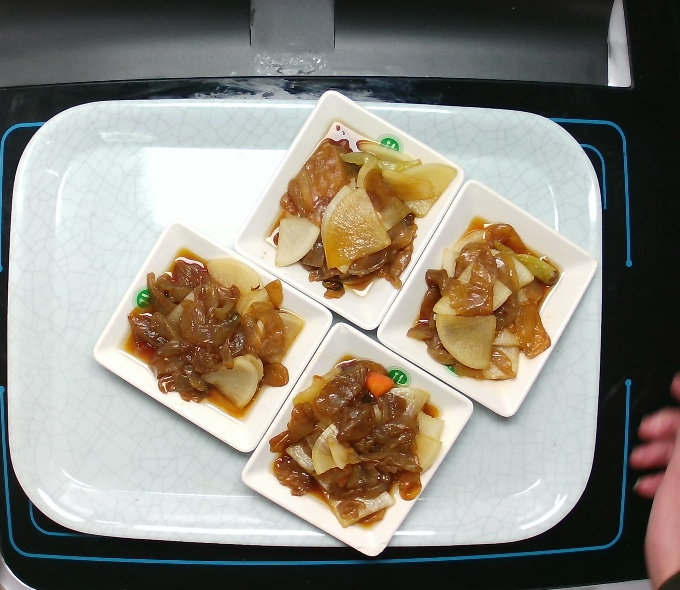wcq-HaiZheTou: (264, 125, 458, 308), (263, 349, 446, 533), (124, 251, 294, 411), (404, 217, 564, 384)
